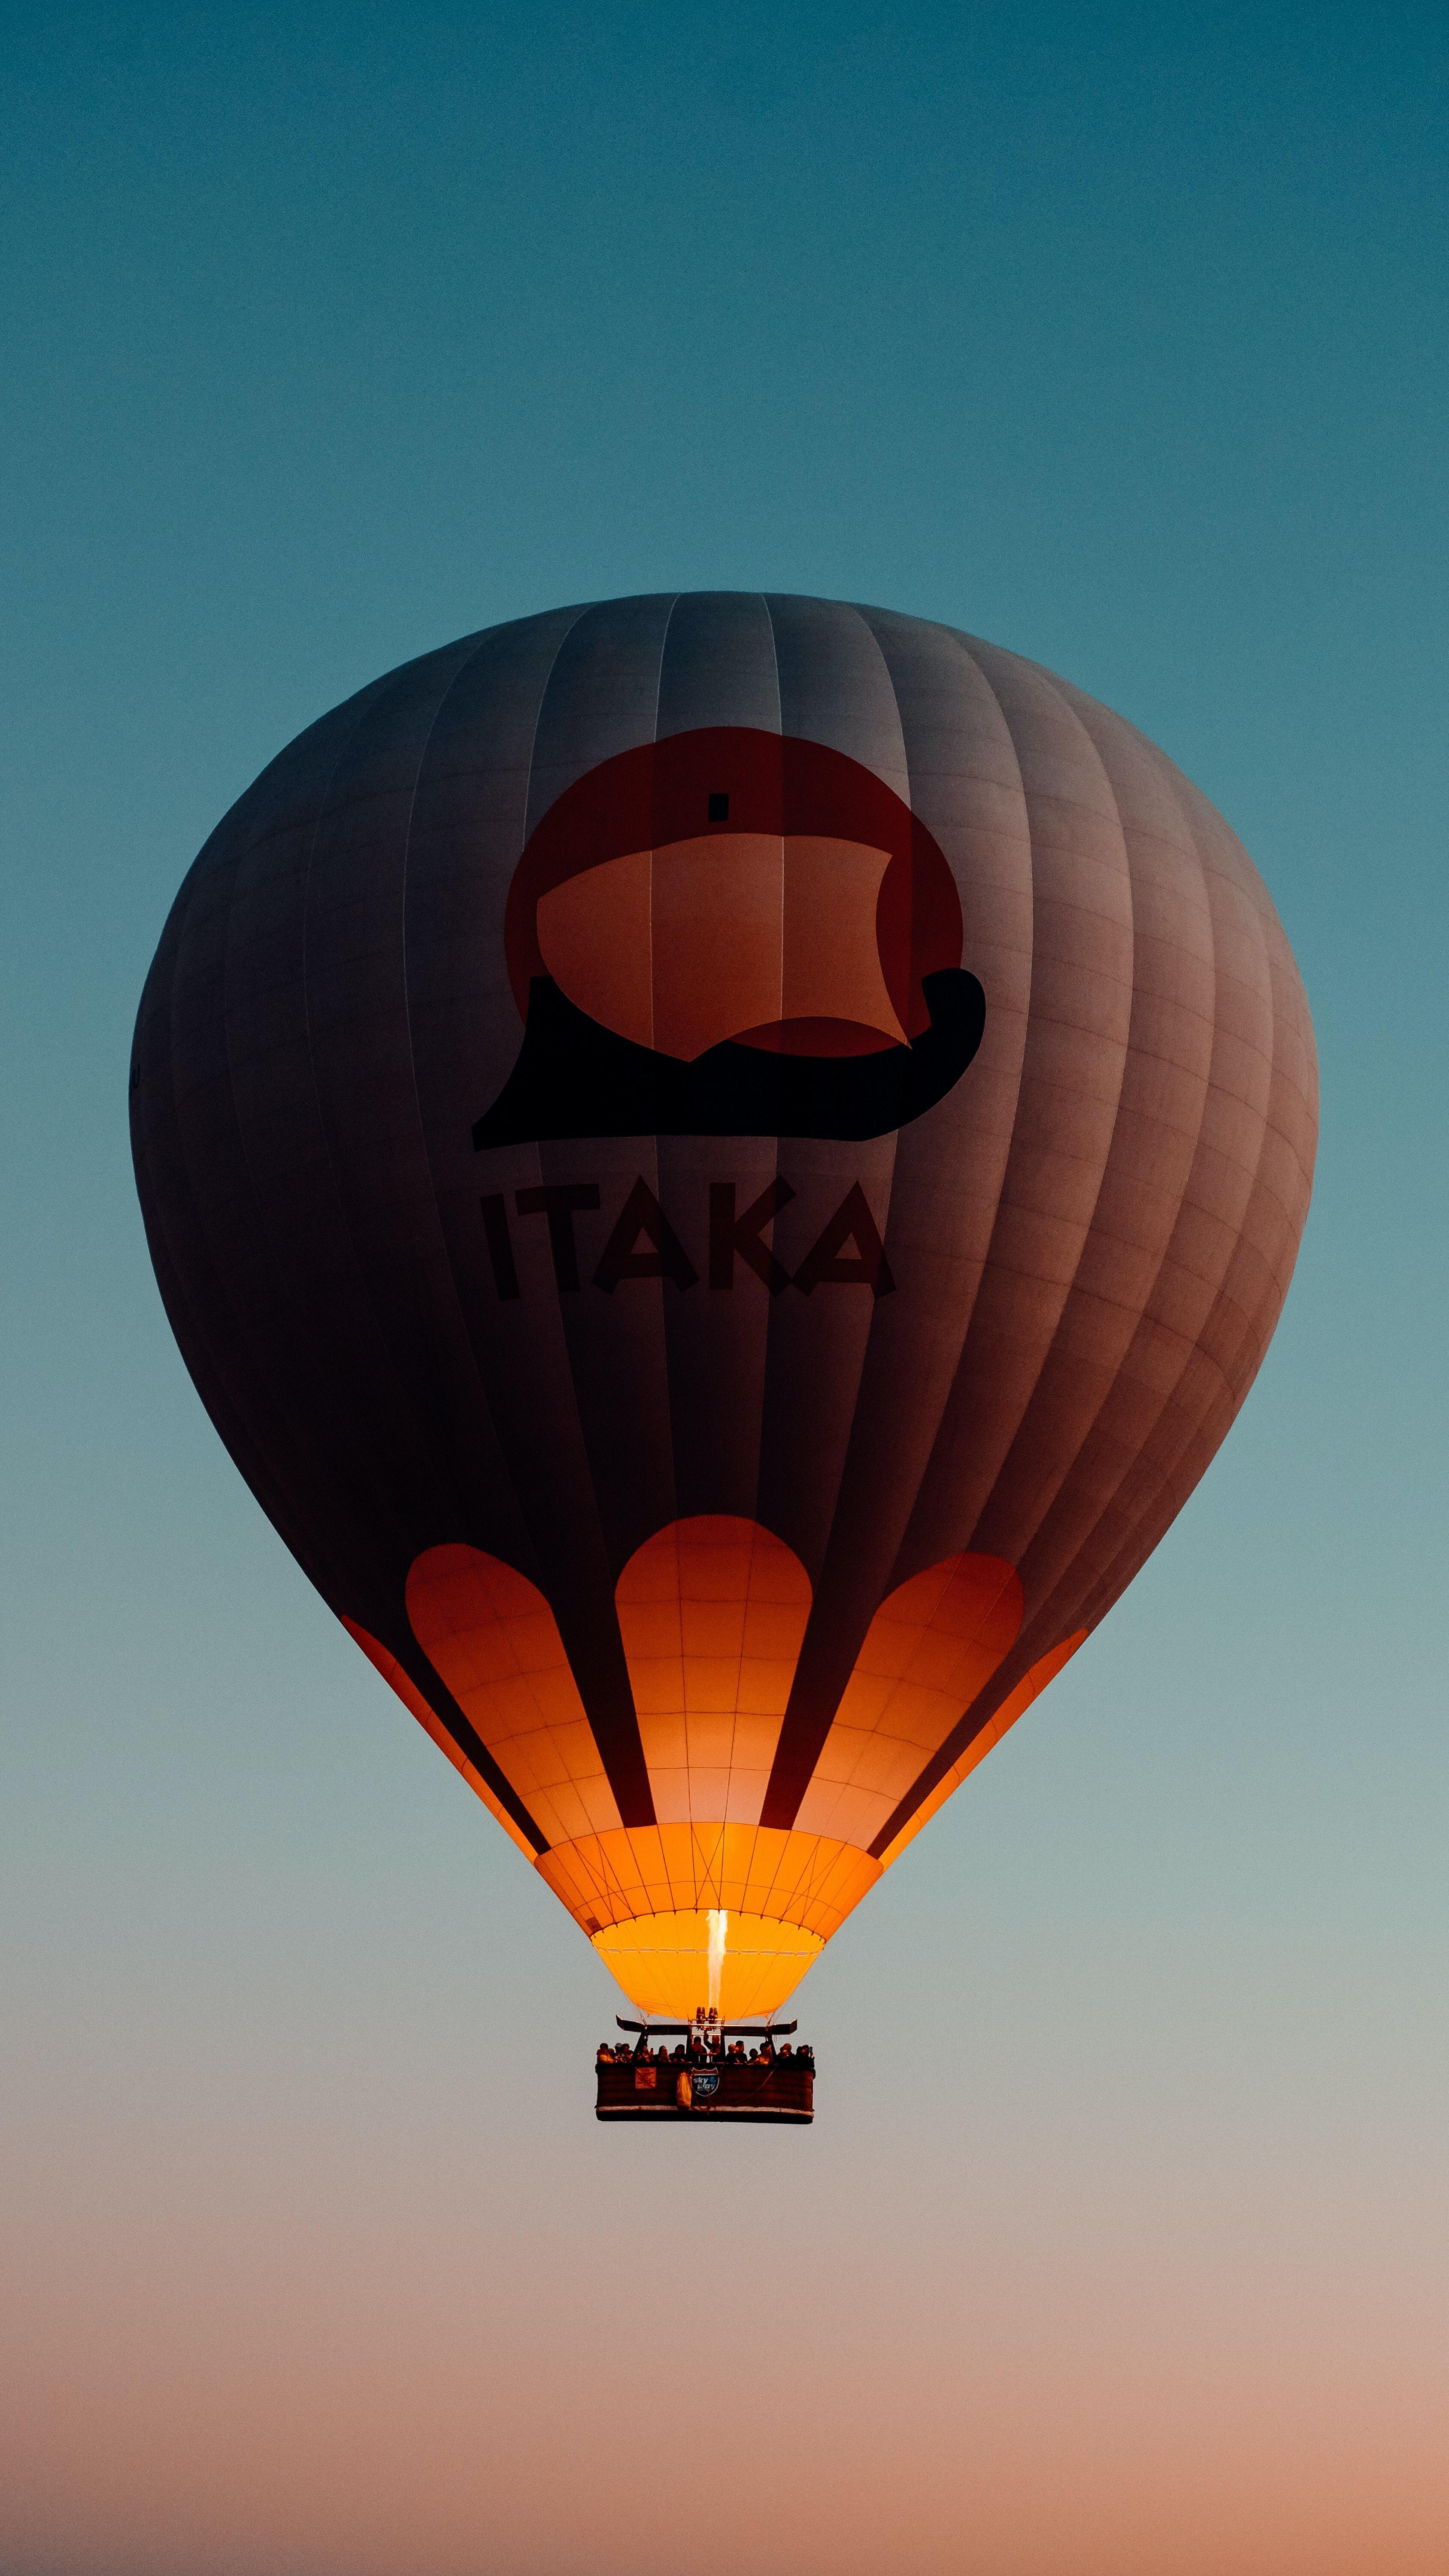hot air ballon: (113, 566, 1334, 2137)
